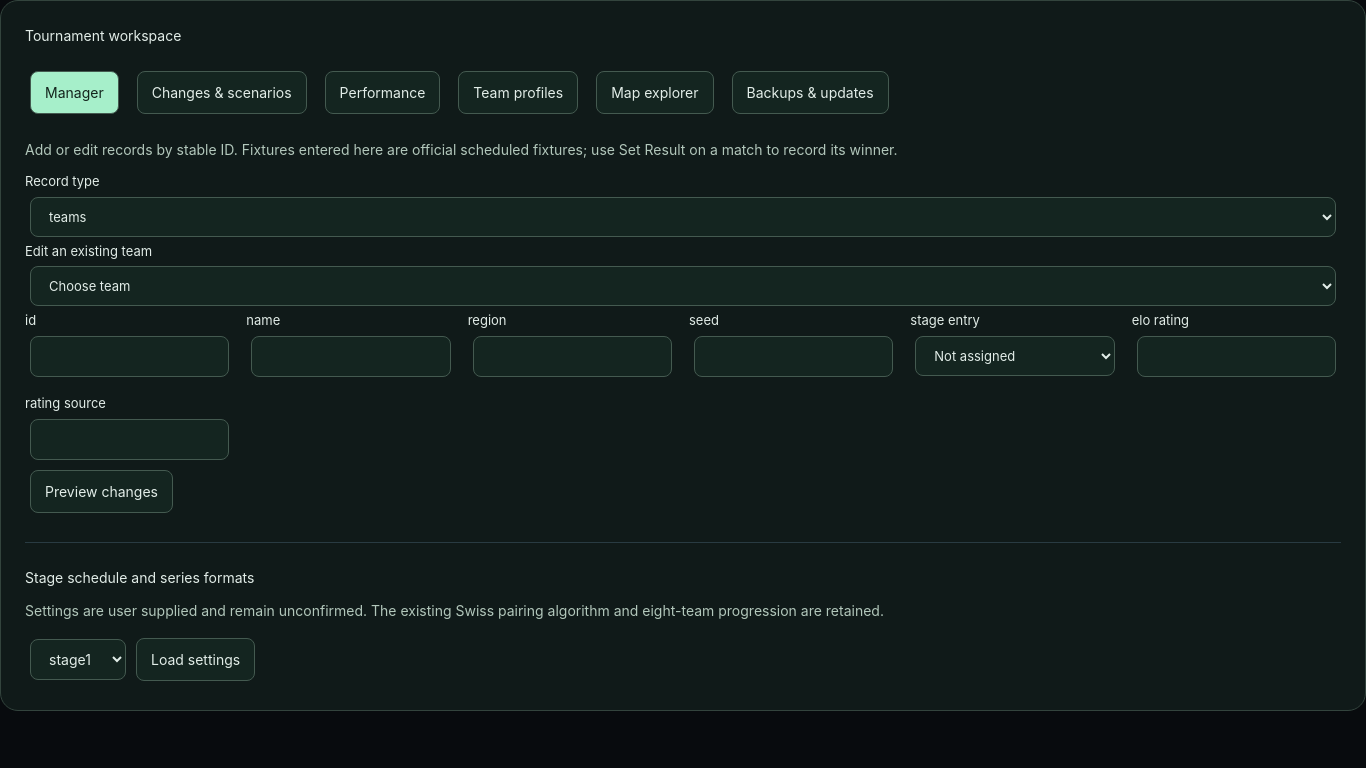
Test: shows missing performance data without inventing accuracy
The image size is (1366, 768).
Click the button "Performance" at [382, 92], box [325,71,440,114]
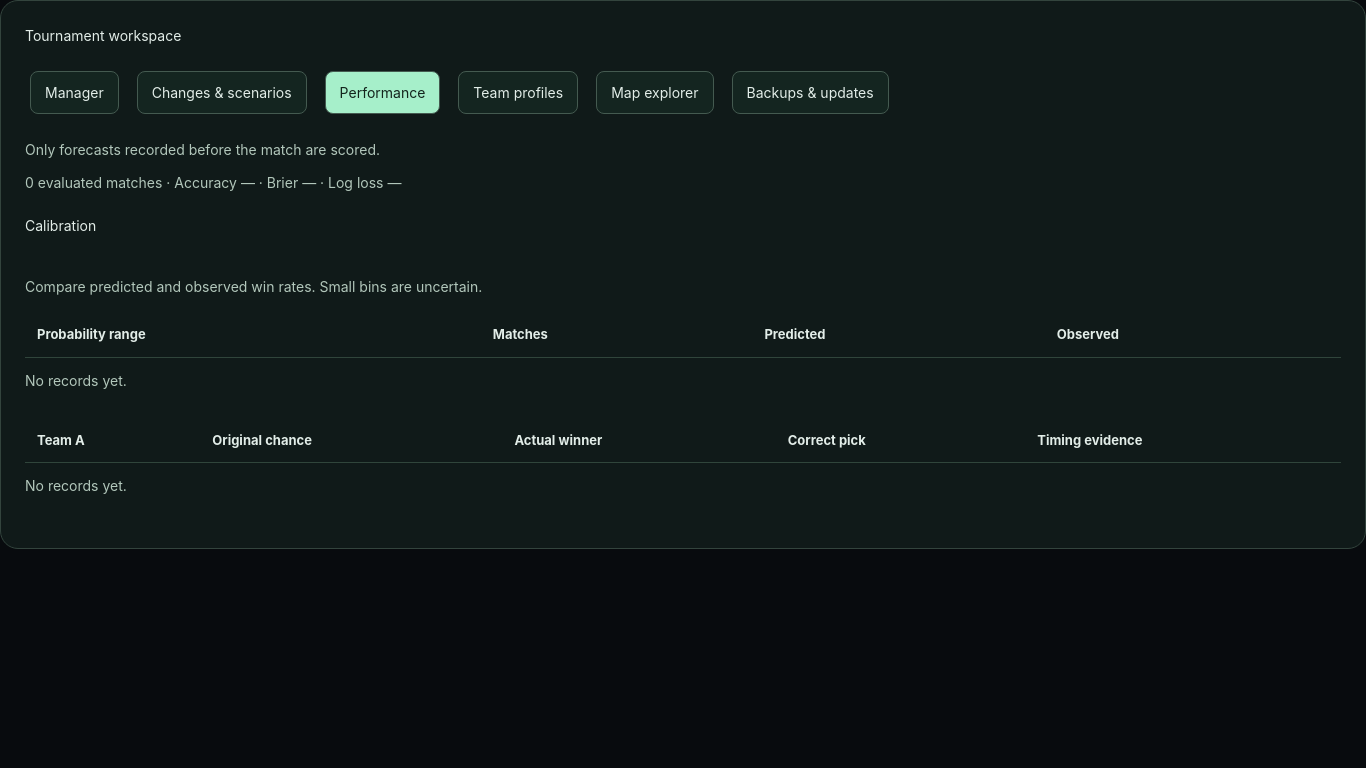
Result: the text "0 evaluated matches · Accuracy — · Brier — · Log loss —" is shown at [25,174,401,191]
Result: the text "Only forecasts recorded before the match are scored." is shown at [25,141,380,158]
